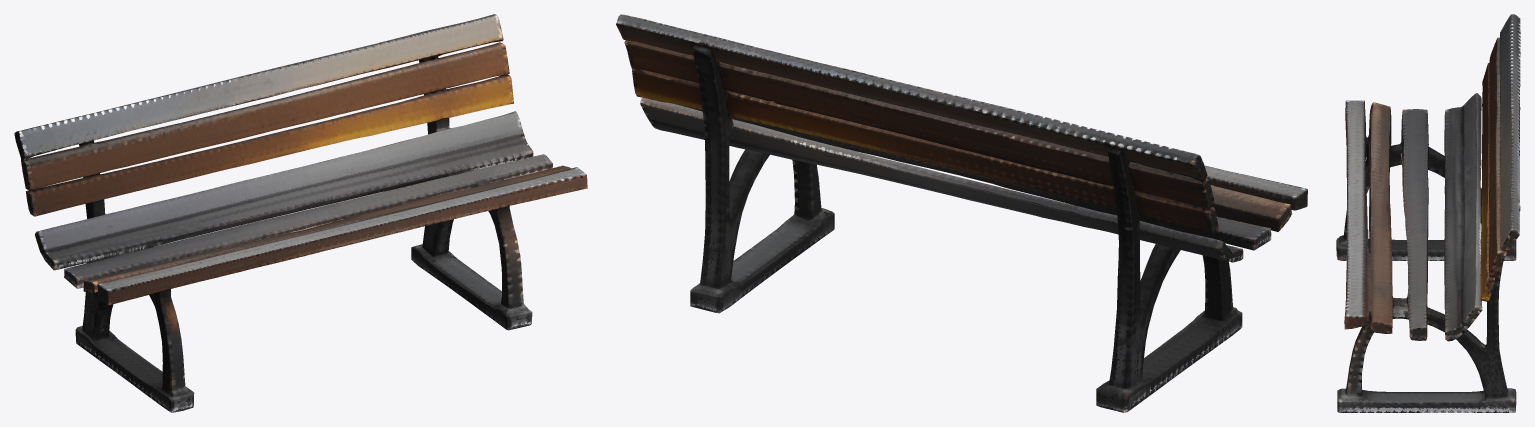
The picture shows the model from 3 angles, left to right: view 1: azimuth 30°, elevation 25°; view 2: azimuth 150°, elevation 25°; view 3: azimuth 270°, elevation 25°; orthographic projection. The views are drawn at different scales.
Parts seen in each view (by area): view 1: bench-backlit; view 2: bench-backlit; view 3: bench-backlit.
Part boxes in pixels (<box>): bench-backlit: <box>14,14,587,412</box>; bench-backlit: <box>616,14,1307,412</box>; bench-backlit: <box>1336,14,1520,412</box>.
Size of the model in its own units: 1.88 by 0.85 by 0.6762.
1 material, 1 textured.
